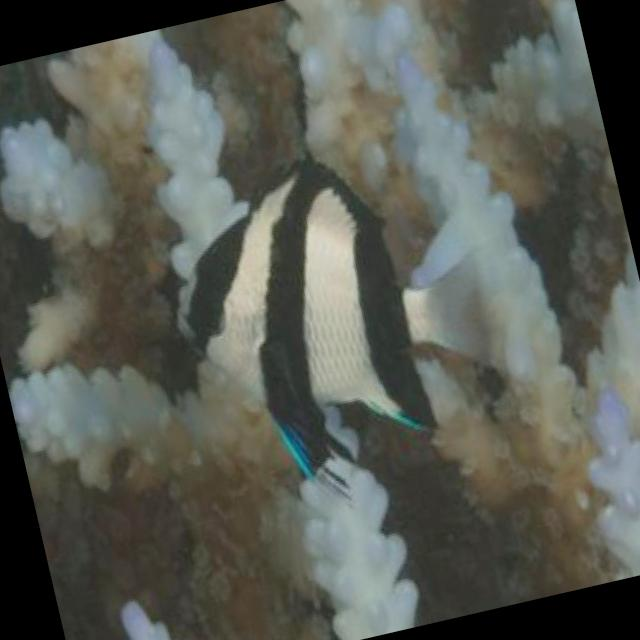Three_striped DasmselFish: (143, 121, 524, 532)
